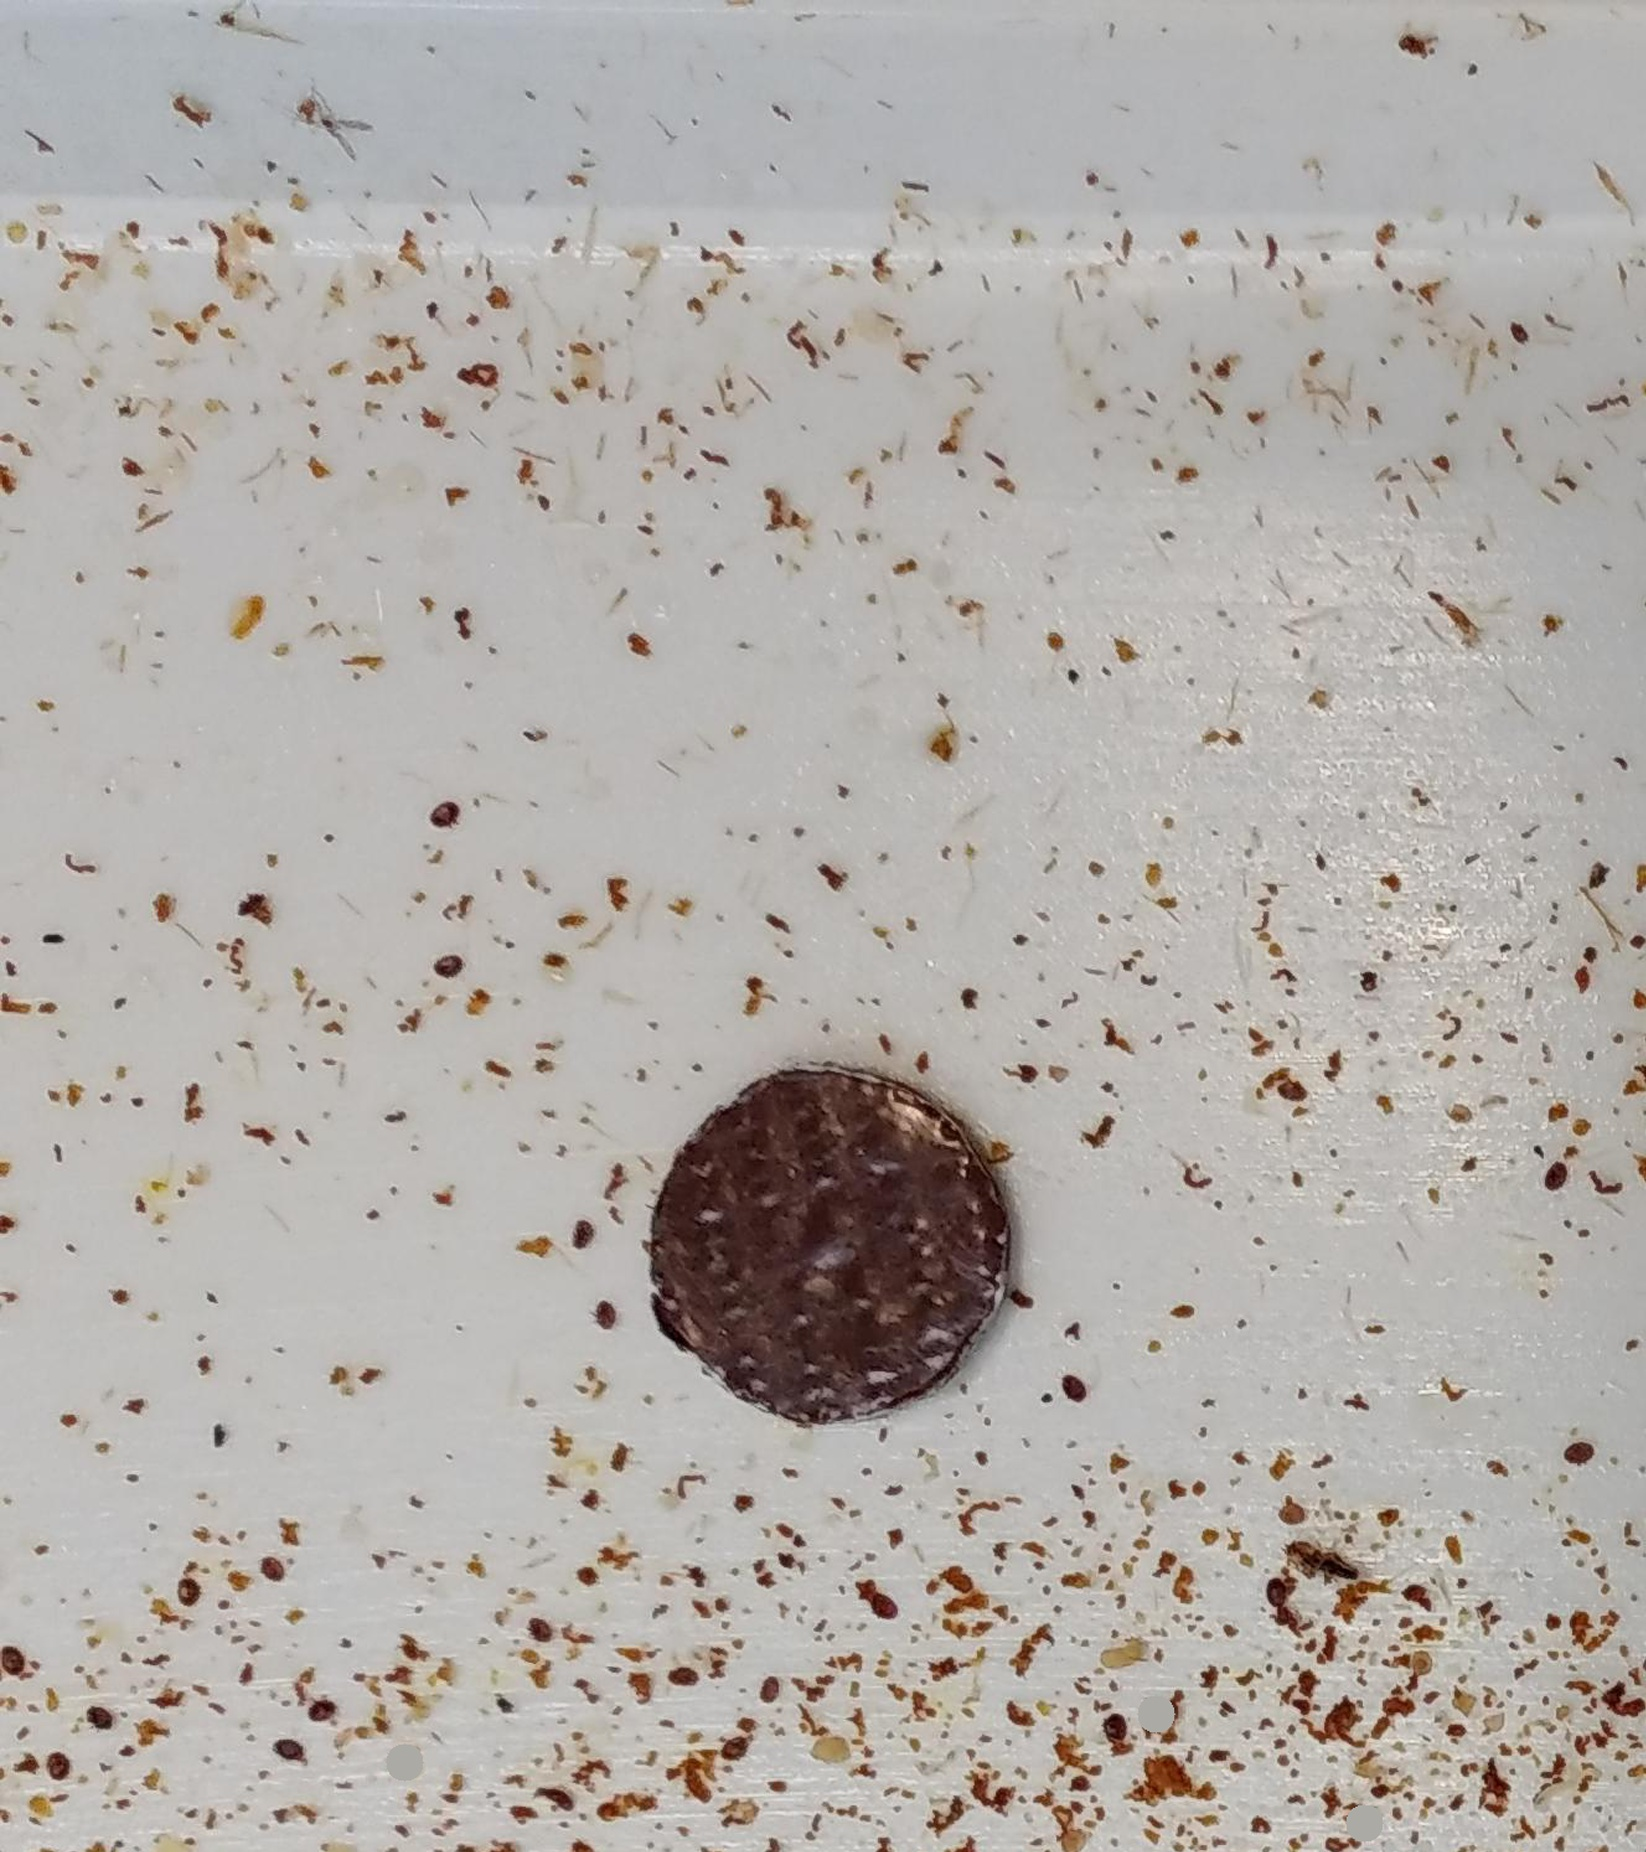Varroa: (5, 1642, 44, 1695), (229, 880, 272, 921), (863, 1584, 899, 1626), (427, 791, 462, 832), (254, 1552, 291, 1588), (1536, 1159, 1571, 1198), (437, 953, 472, 991), (1096, 1711, 1131, 1749), (659, 1658, 697, 1693), (589, 1294, 624, 1333), (1563, 1437, 1598, 1474), (81, 1704, 116, 1741), (758, 1673, 793, 1709), (524, 1615, 559, 1650), (168, 1580, 202, 1615), (717, 1731, 752, 1765), (569, 1225, 602, 1260), (1269, 1072, 1304, 1105), (276, 1731, 308, 1768), (1266, 1579, 1300, 1612), (443, 931, 477, 964), (1276, 1499, 1308, 1534), (311, 1695, 343, 1730), (43, 1746, 76, 1777), (1053, 1368, 1084, 1401), (1163, 1700, 1195, 1730), (5, 1634, 21, 1671)
